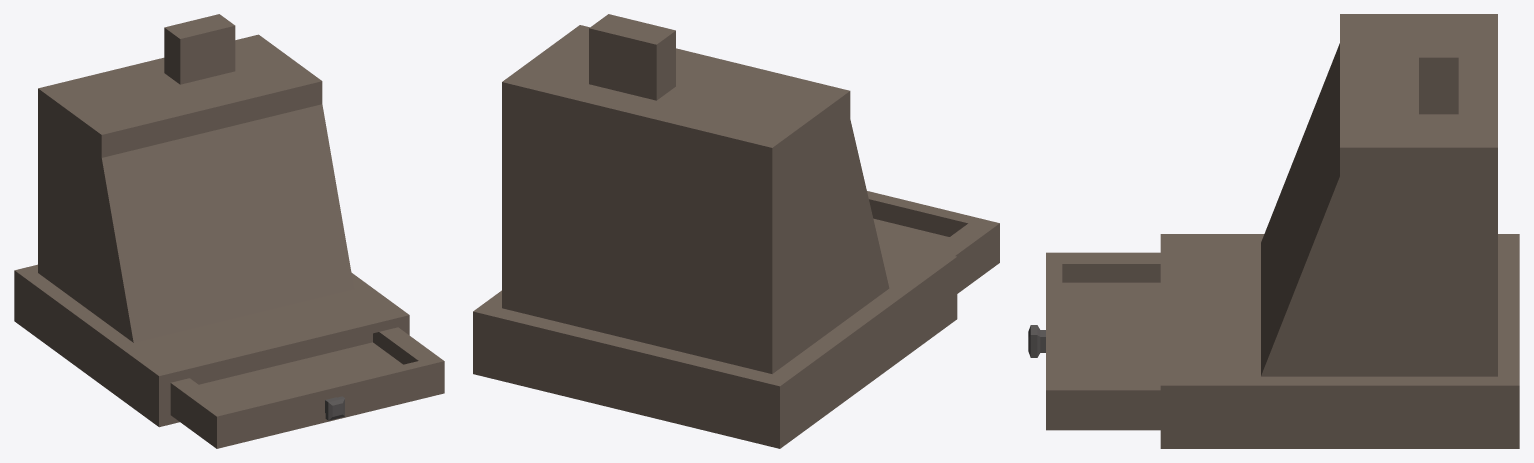
The model's file is machine_a_compter.obj.
The picture shows the model from 3 angles, left to right: view 1: azimuth 30°, elevation 25°; view 2: azimuth 150°, elevation 25°; view 3: azimuth 270°, elevation 25°; orthographic projection. The views are drawn at different scales.
Parts seen in each view (by area): view 1: Cube_Cube.002; view 2: Cube_Cube.002; view 3: Cube_Cube.002.
Part boxes in pixels (box(x1,y1,x2,y2)): Cube_Cube.002: box(14, 14, 444, 448); Cube_Cube.002: box(473, 14, 999, 448); Cube_Cube.002: box(1028, 14, 1519, 448).
Size of the model in its own units: 2 by 2.15 by 2.74.
